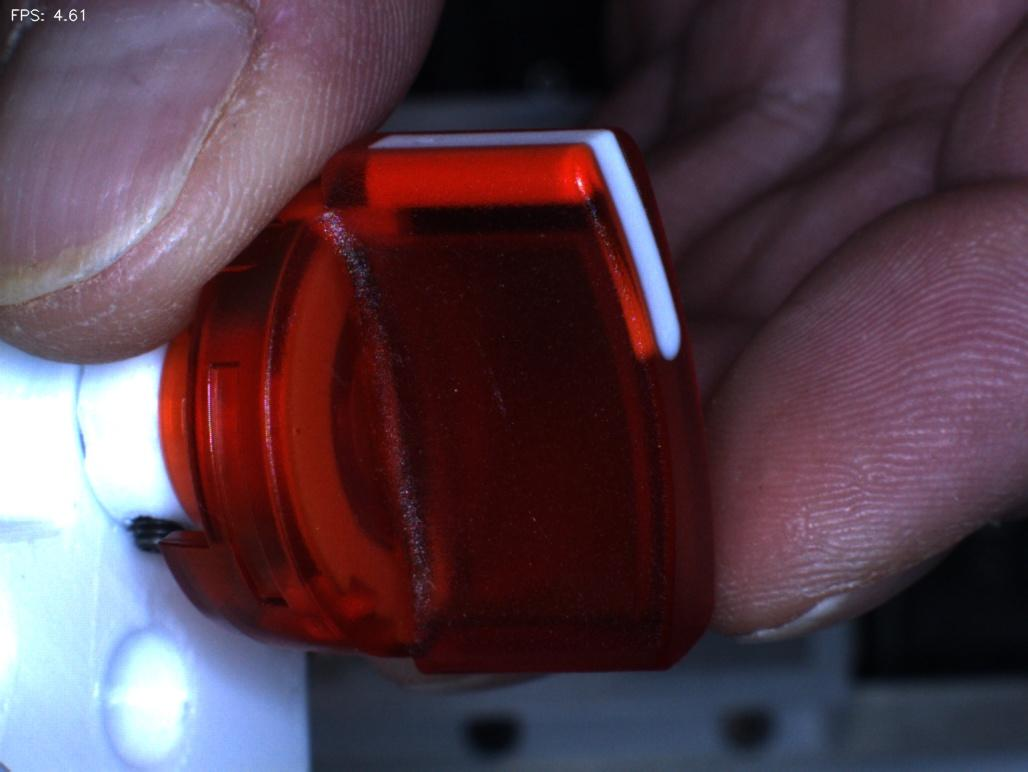Givrage: (446, 311, 532, 449)
